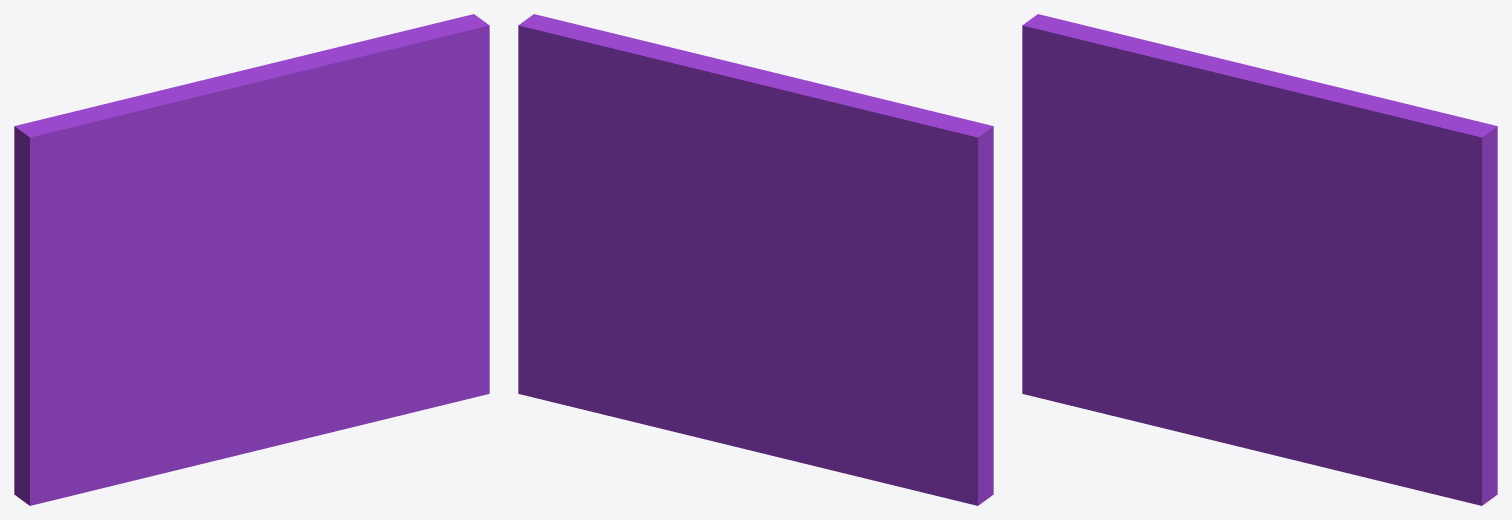
The model's file is Barrier_50_chunks.fbx.
3 renders of one model, left to right at view 1: azimuth 30°, elevation 25°; view 2: azimuth 150°, elevation 25°; view 3: azimuth 330°, elevation 25°, orthographic.
Parts seen in each view (by area): view 1: Barrier_50_0, Barrier_50_1, Barrier_50_2, Barrier_50_3; view 2: Barrier_50_0, Barrier_50_1, Barrier_50_2, Barrier_50_3; view 3: Barrier_50_1, Barrier_50_2, Barrier_50_3, Barrier_50_0.
Boxes of the visible parts, left/top/right/bottom form: Barrier_50_0: left=14, top=89, right=238, bottom=444; Barrier_50_1: left=277, top=14, right=489, bottom=418; Barrier_50_2: left=14, top=266, right=385, bottom=505; Barrier_50_3: left=143, top=17, right=489, bottom=266; Barrier_50_0: left=742, top=98, right=993, bottom=455; Barrier_50_1: left=518, top=22, right=751, bottom=425; Barrier_50_2: left=649, top=283, right=993, bottom=505; Barrier_50_3: left=522, top=14, right=879, bottom=240; Barrier_50_1: left=1269, top=123, right=1497, bottom=505; Barrier_50_2: left=1022, top=256, right=1377, bottom=480; Barrier_50_3: left=1135, top=50, right=1493, bottom=274; Barrier_50_0: left=1022, top=14, right=1231, bottom=314.
Size of the model in its own units: 376 by 288 by 22.1.
